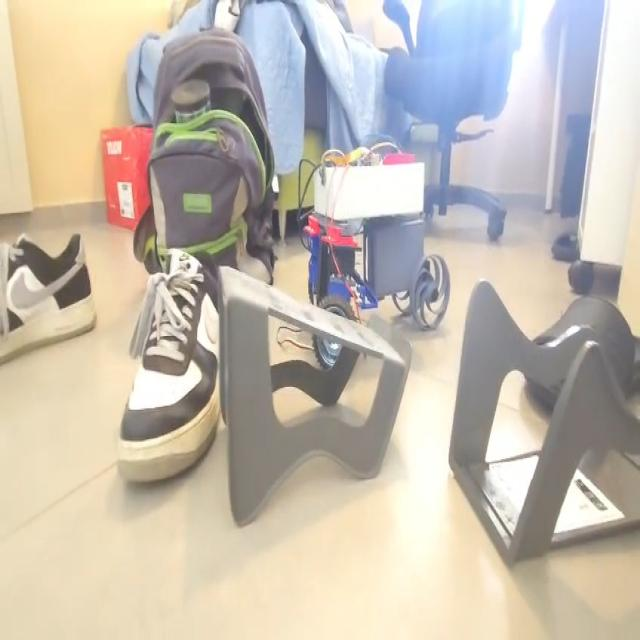Robot: (301, 150, 451, 376)
